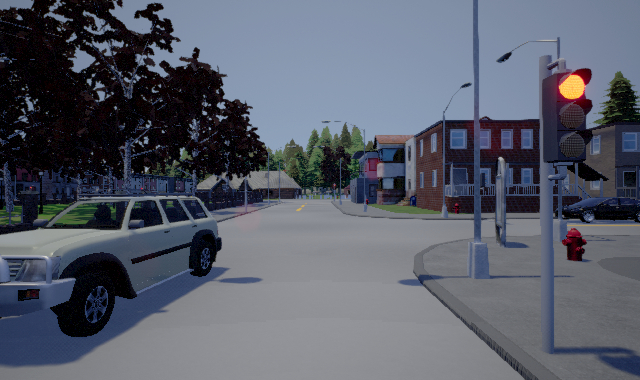traffic_light: (540, 68, 592, 162)
vehicle: (1, 196, 223, 338), (562, 197, 640, 223)
